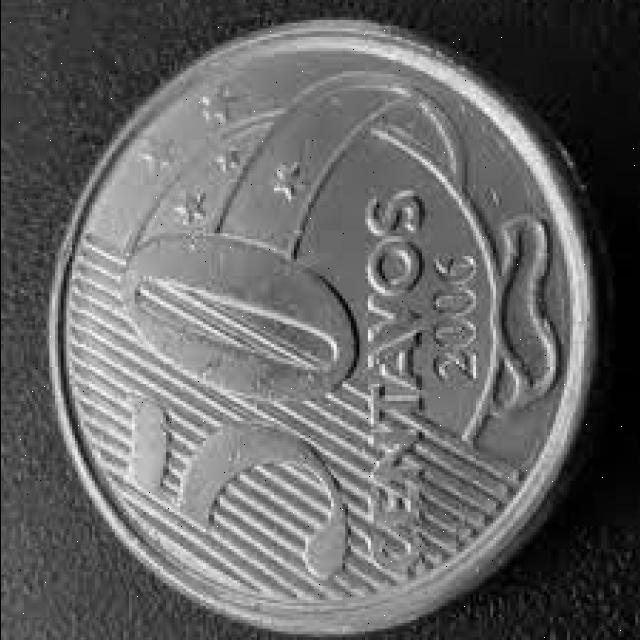50 cent: (40, 11, 602, 637)
